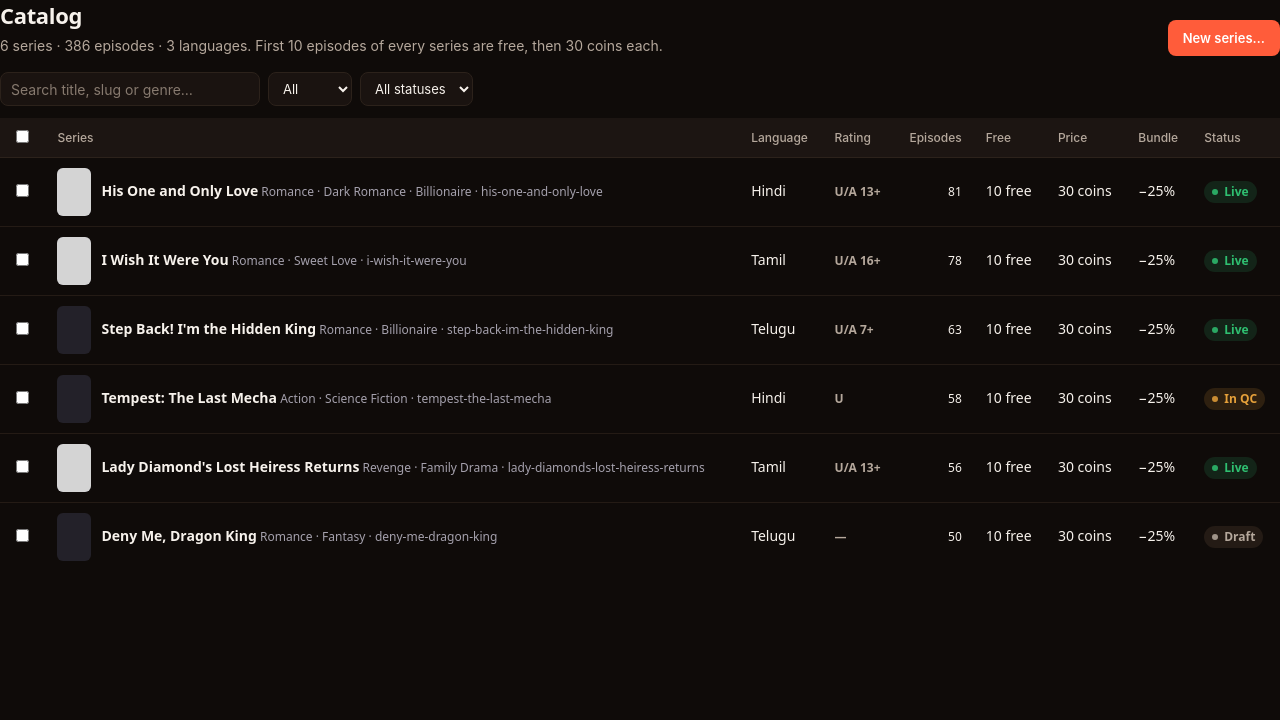
Test case: Catalog — bulk pricing (finance, typed PRICING) › applies with the typed confirm, reports per-slug results, reloads
The image size is (1280, 720).
Expected: the text "His One and Only Love" is shown, x1=102 y1=181 x2=258 y2=200
Step 1. Click the checkbox named "Select His One and Only Love" → (22,190), box x1=16 y1=184 x2=29 y2=197
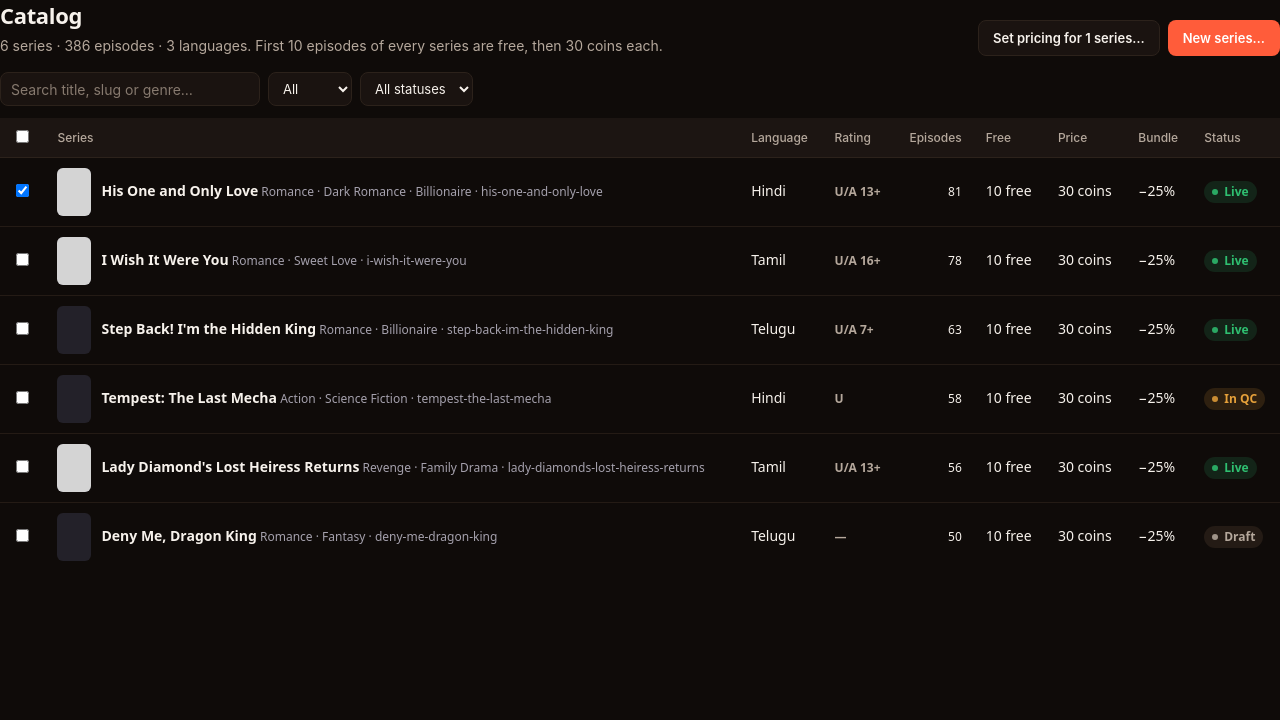
Step 2. Click the checkbox named "Select I Wish It Were You" → (22,259), box x1=16 y1=253 x2=29 y2=266
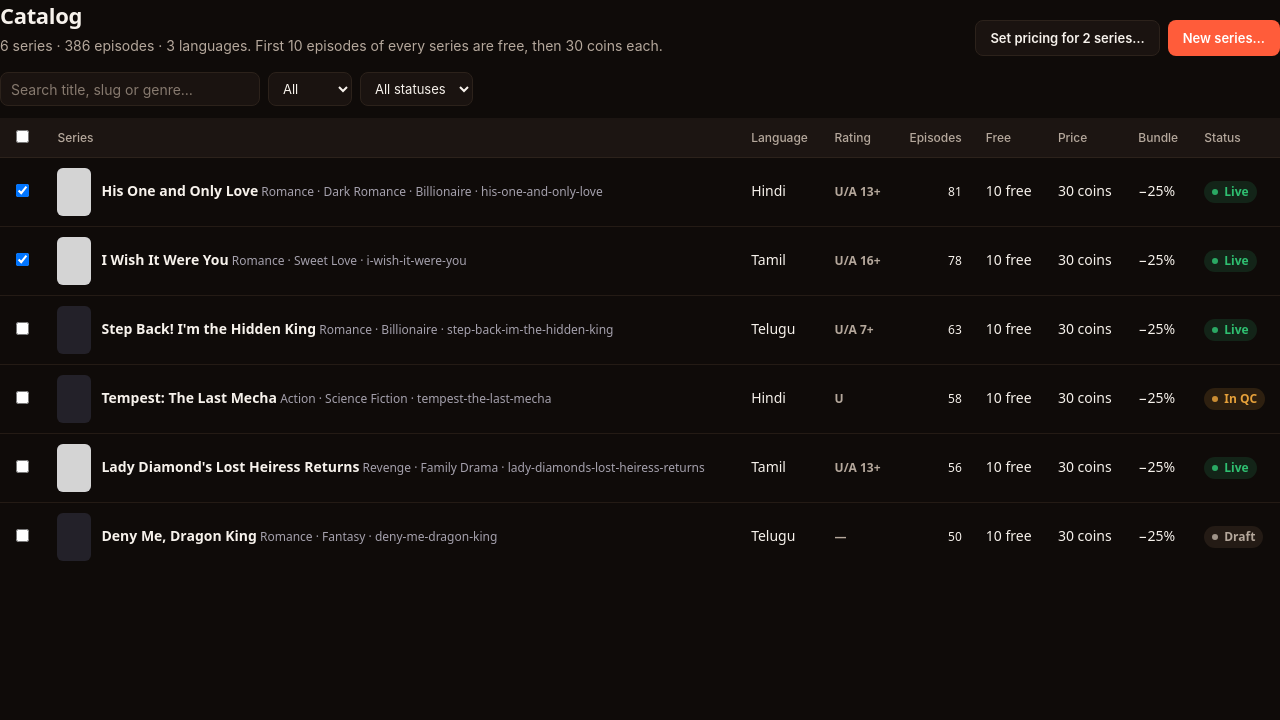
Step 3. Click the button "Set pricing for 2 series…" → (1068,38), box x1=975 y1=20 x2=1160 y2=56
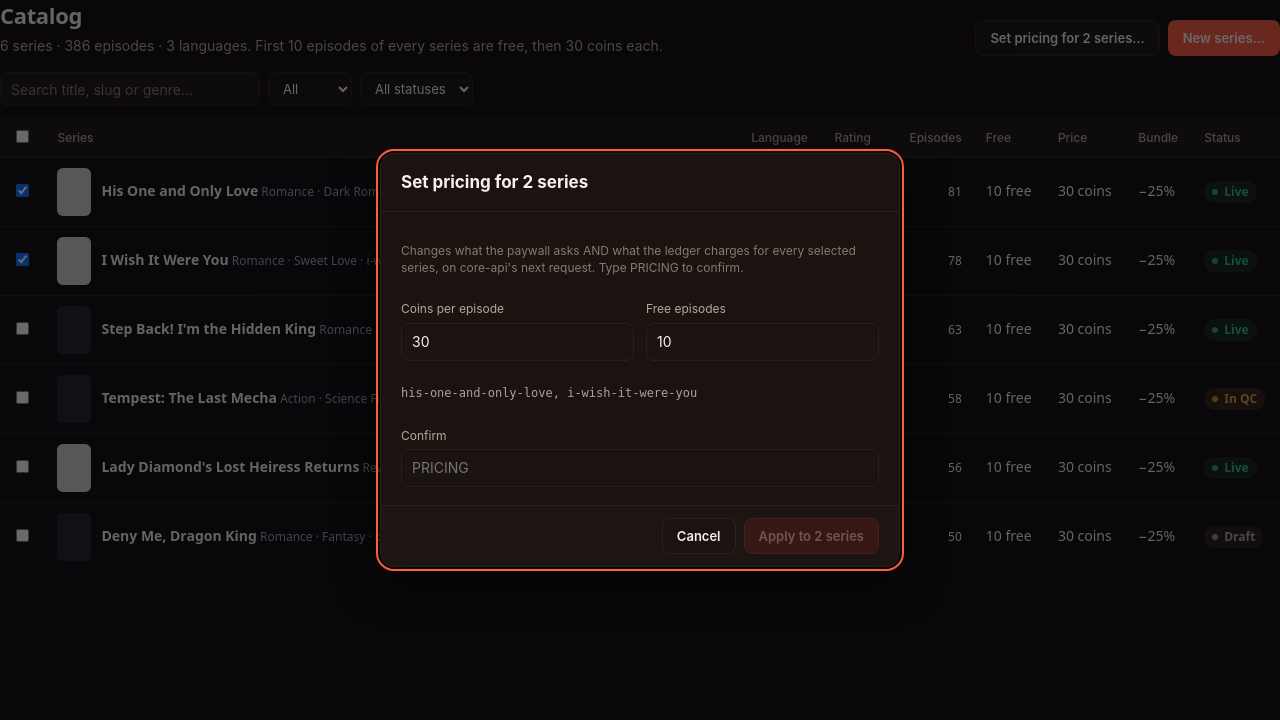
Now the button "Apply to 2 series" is disabled, box x1=744 y1=518 x2=879 y2=554
Step 4. Replace the text in the number field named "Bulk coins per episode" with "20" → (518,342), box x1=401 y1=323 x2=634 y2=361
Step 5. Replace the text in the number field named "Bulk free episodes" with "5" → (762,342), box x1=646 y1=323 x2=879 y2=361
Step 6. Type "pricing" into the field named "Confirm PRICING" → (640,468), box x1=401 y1=449 x2=879 y2=487
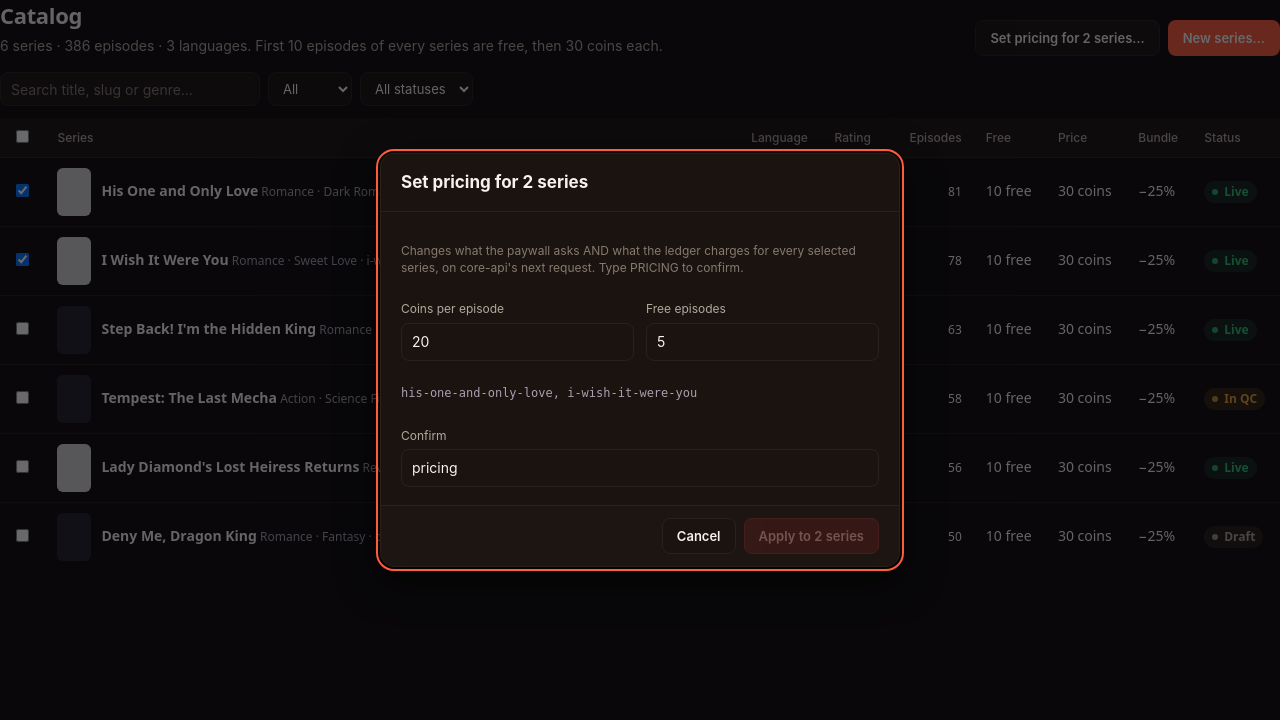
Now the button "Apply to 2 series" is disabled, box x1=744 y1=518 x2=879 y2=554
Step 7. Replace the text in the field named "Confirm PRICING" with "PRICING" → (640,468), box x1=401 y1=449 x2=879 y2=487
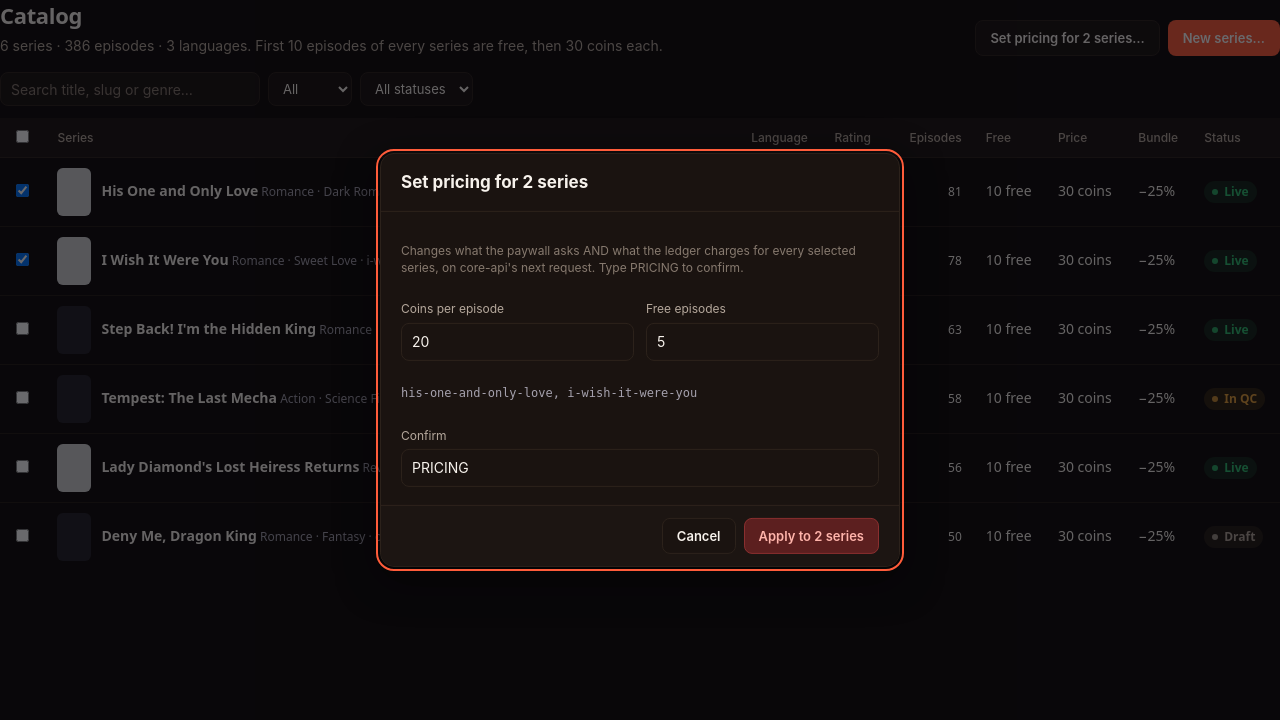
Step 8. Click the button "Apply to 2 series" → (811,536), box x1=744 y1=518 x2=879 y2=554
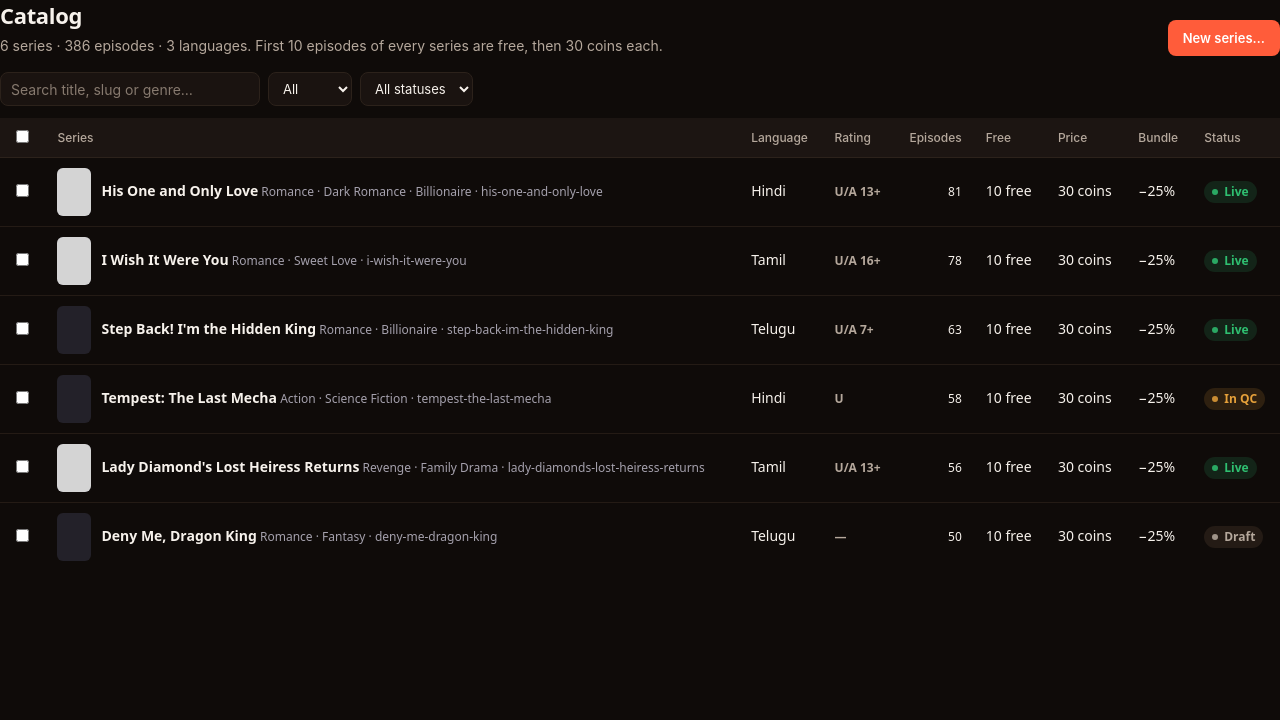
Now the dialog is gone
Now the button "Set pricing for" is gone
